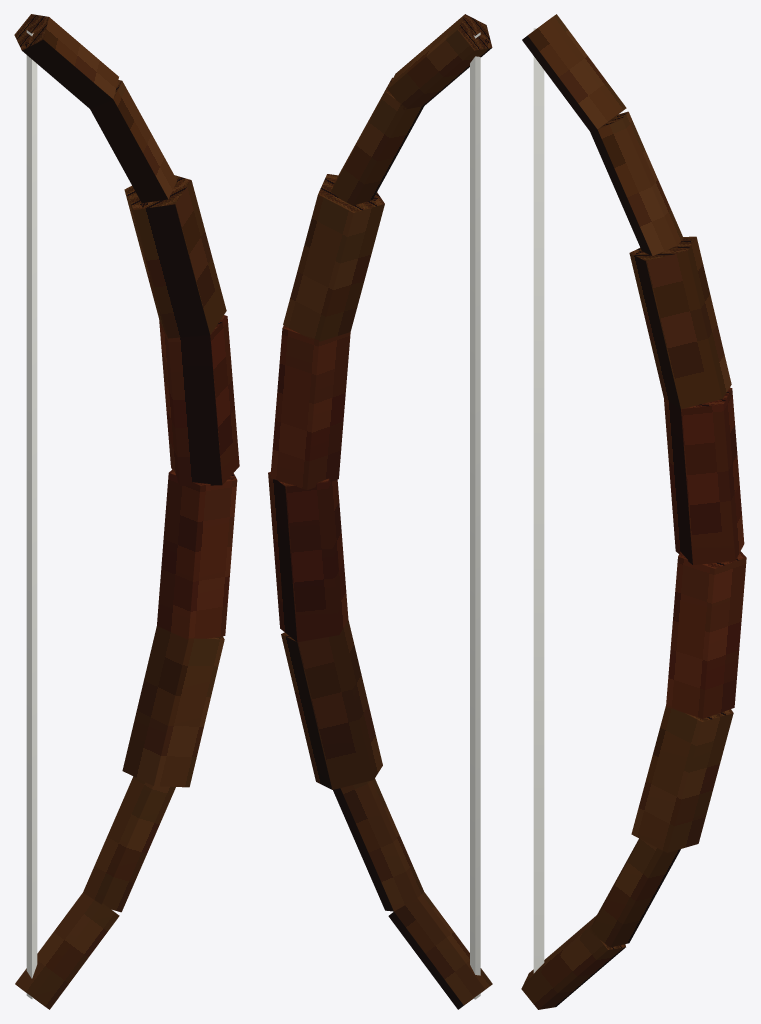
Rendered from bow.glb.
3 renders of one model, left to right at view 1: azimuth 30°, elevation 25°; view 2: azimuth 150°, elevation 25°; view 3: azimuth 330°, elevation 25°, orthographic.
Visible parts, largest first — view 1: bow; view 2: bow; view 3: bow.
Boxes of the visible parts, <box> form: bow: <box>14,14,239,1009</box>; bow: <box>268,14,492,1009</box>; bow: <box>521,14,746,1009</box>.
Bounding box in the file's own units: 0.2396 × 1.05 × 0.07.
Materials: 2 (1 with a texture image).
